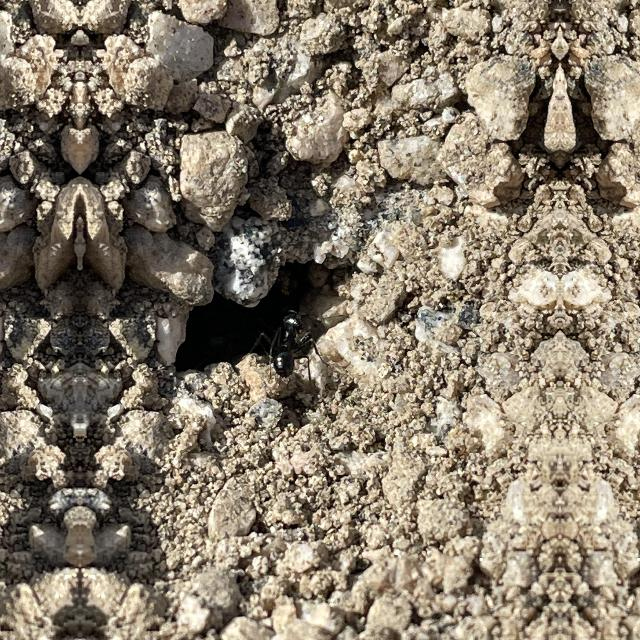Messor: (248, 302, 320, 382)
